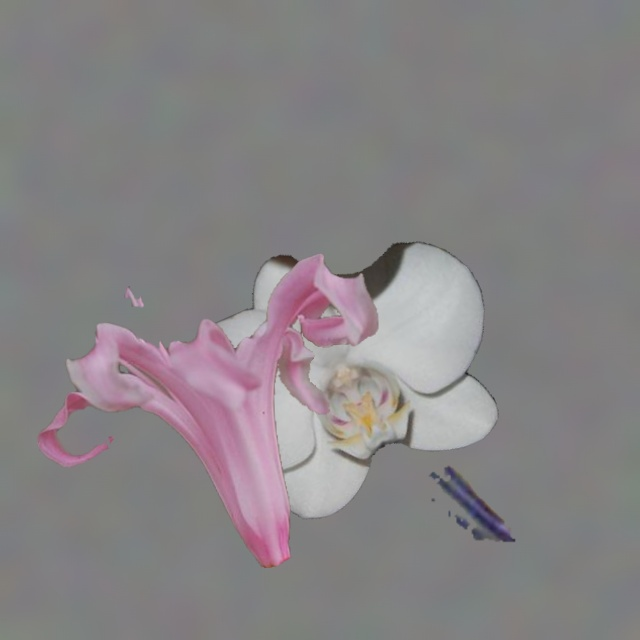cape flower: (37, 254, 377, 567)
orchid: (178, 242, 497, 518)
passion flower: (429, 466, 514, 541)
